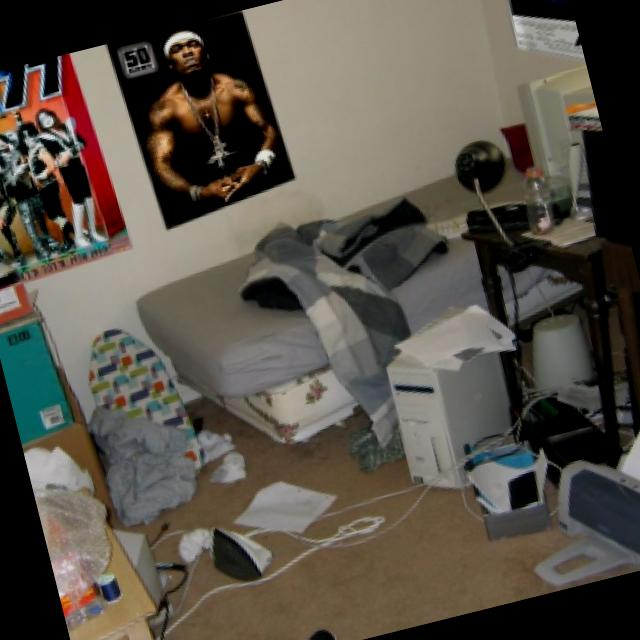mess: (107, 118, 640, 404), (113, 390, 409, 640), (19, 412, 180, 640)
